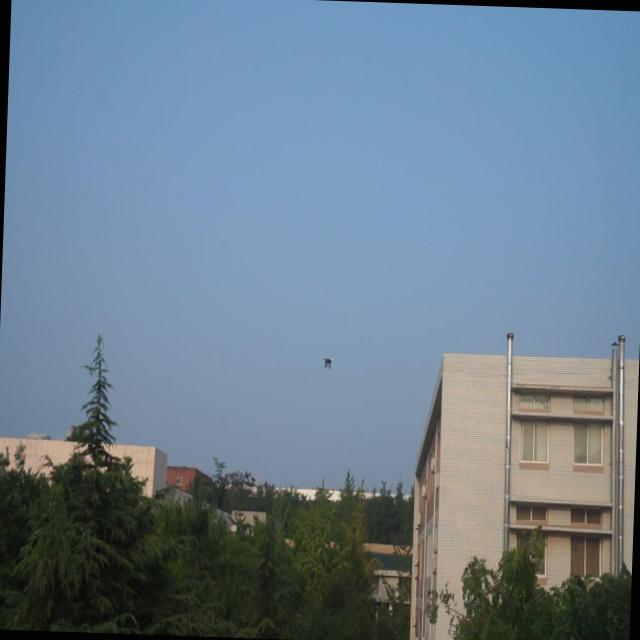drone: (322, 352, 334, 372)
